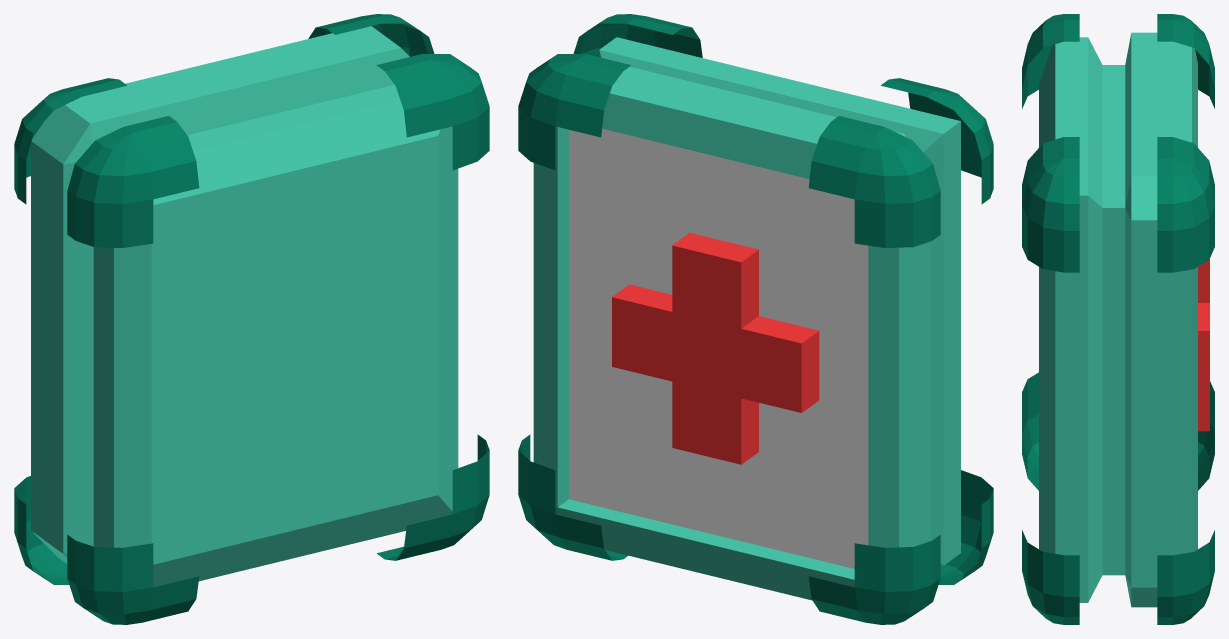
Rendered from Heal.FBX.
The picture shows the model from 3 angles, left to right: view 1: azimuth 30°, elevation 25°; view 2: azimuth 150°, elevation 25°; view 3: azimuth 270°, elevation 25°; orthographic projection. The views are drawn at different scales.
Visible parts, largest first — view 1: ChamferBox002; view 2: ChamferBox002; view 3: ChamferBox002.
Part boxes in pixels (box(x1,y1,x2,y2)): ChamferBox002: box(14, 14, 489, 624); ChamferBox002: box(518, 14, 993, 624); ChamferBox002: box(1022, 14, 1214, 624).
Size of the model in its own units: 8.98 by 3.87 by 10.21.
Materials: 1 (1 with a texture image).
